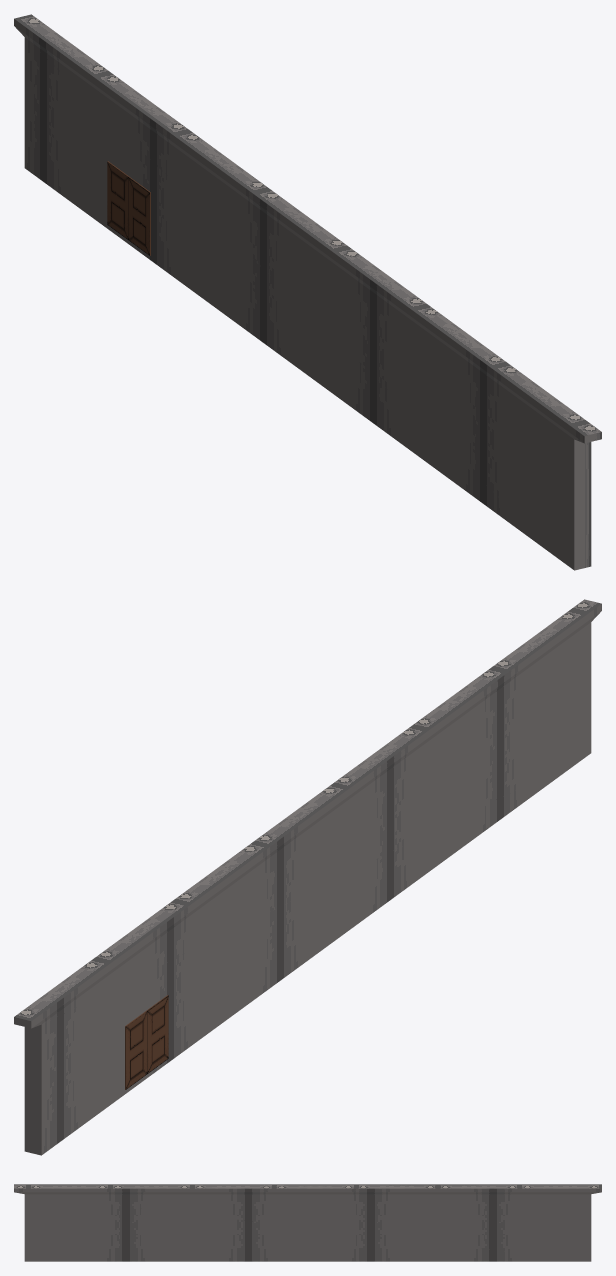
File: Wall3.fbx
3 views of the same model, one above another, from view 1: azimuth 30°, elevation 25°; view 2: azimuth 150°, elevation 25°; view 3: azimuth 270°, elevation 25° (orthographic). The views are drawn at different scales.
Visible parts, largest first — view 1: Cube.024; view 2: Cube.024; view 3: Cube.024.
Part boxes in pixels (<box>): Cube.024: <box>14,14,601,570</box>; Cube.024: <box>14,599,601,1155</box>; Cube.024: <box>14,1184,601,1261</box>.
Bounding box in the file's own units: 59.84 × 448 × 3262.
2 materials, 2 textured.
